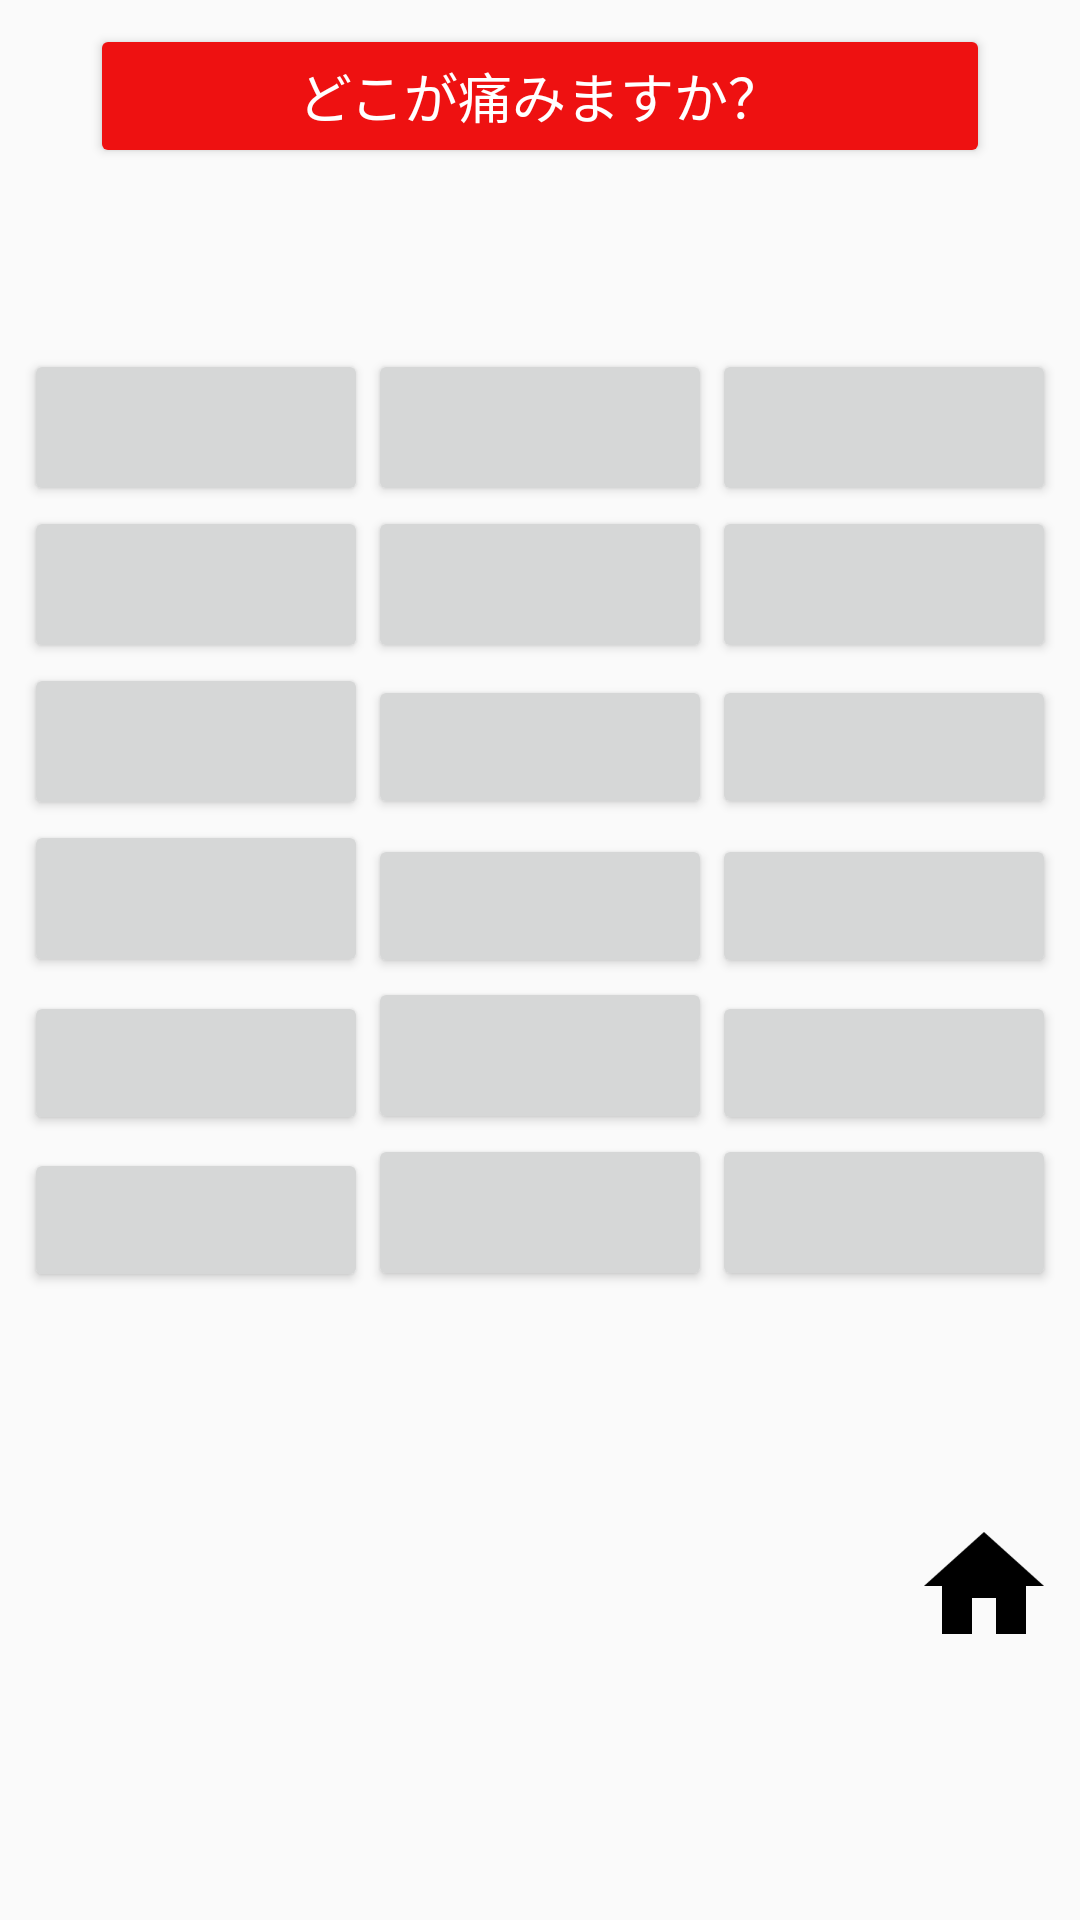

Icon bounding boxes for this 1080px x 1920px phone screenshot, format (x1, y1, x2, y2):
home: (924, 1532, 1044, 1634)
